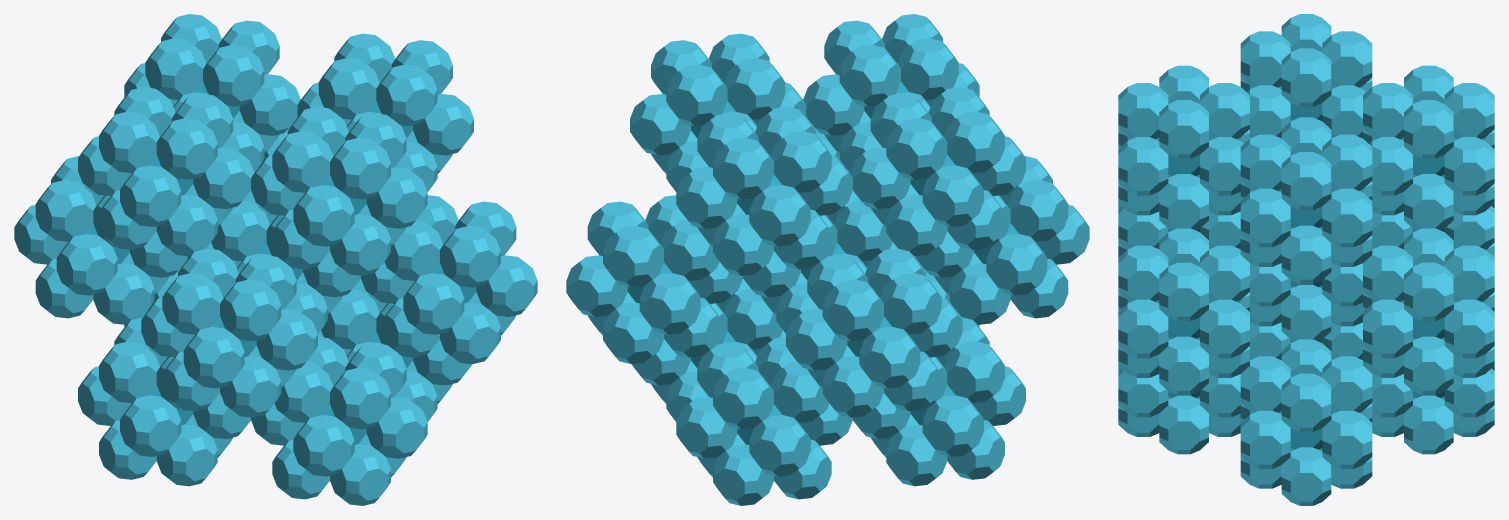
The model's file is fractaltruncatedcuboctahedron2.glb.
3 views of the same model, side by side, from view 1: azimuth 30°, elevation 25°; view 2: azimuth 150°, elevation 25°; view 3: azimuth 270°, elevation 25° (orthographic). The views are drawn at different scales.
Size of the model in its own units: 8.3 by 8.3 by 8.3.
